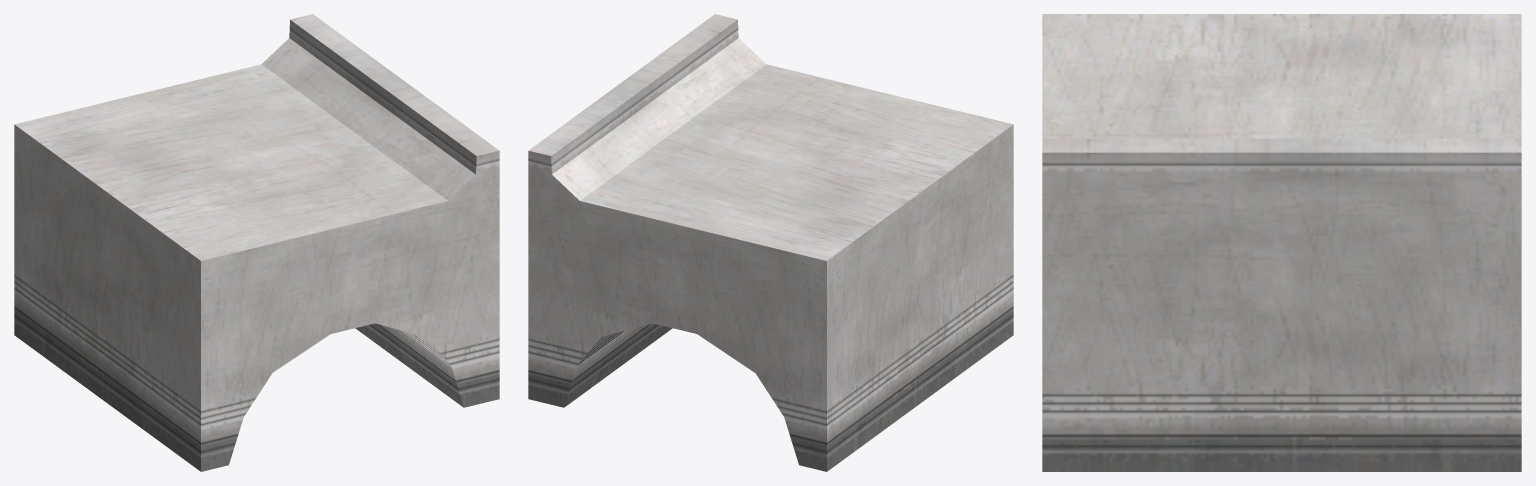
The model's file is frn_all_mdrn_end_table_s01_l0.fbx.
3 views of the same model, side by side, from view 1: azimuth 30°, elevation 25°; view 2: azimuth 150°, elevation 25°; view 3: azimuth 270°, elevation 25° (orthographic). The views are drawn at different scales.
Parts seen in each view (by area): view 1: mesh_node; view 2: mesh_node; view 3: mesh_node.
Part boxes in pixels (box(x1,y1,x2,y2)): mesh_node: box(14, 14, 499, 471); mesh_node: box(528, 14, 1013, 471); mesh_node: box(1042, 14, 1521, 471).
Size of the model in its own units: 0.9229 by 0.7343 by 1.
